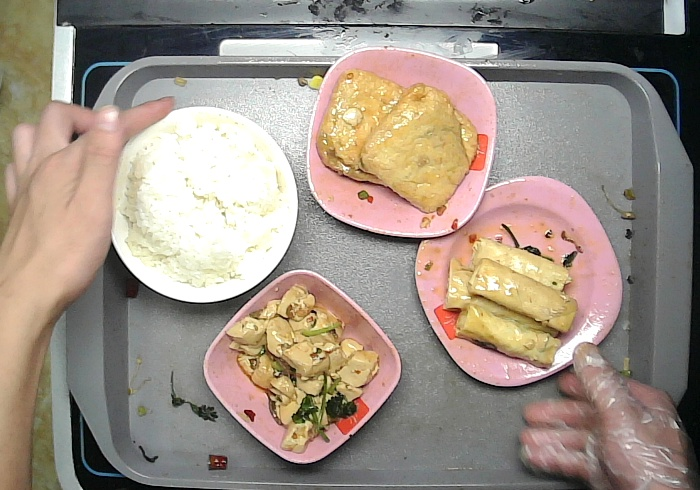SHKJ-Fan_Wan: (111, 105, 300, 306)
SHKJ-Fen_Se_Cai_Die: (305, 45, 496, 237)
SHKJ-Fen_Se_Si_Fang_Cai_Die: (412, 171, 625, 389)
SHKJ-Fen_Se_Xiao_Fang_Die: (202, 268, 405, 466)
